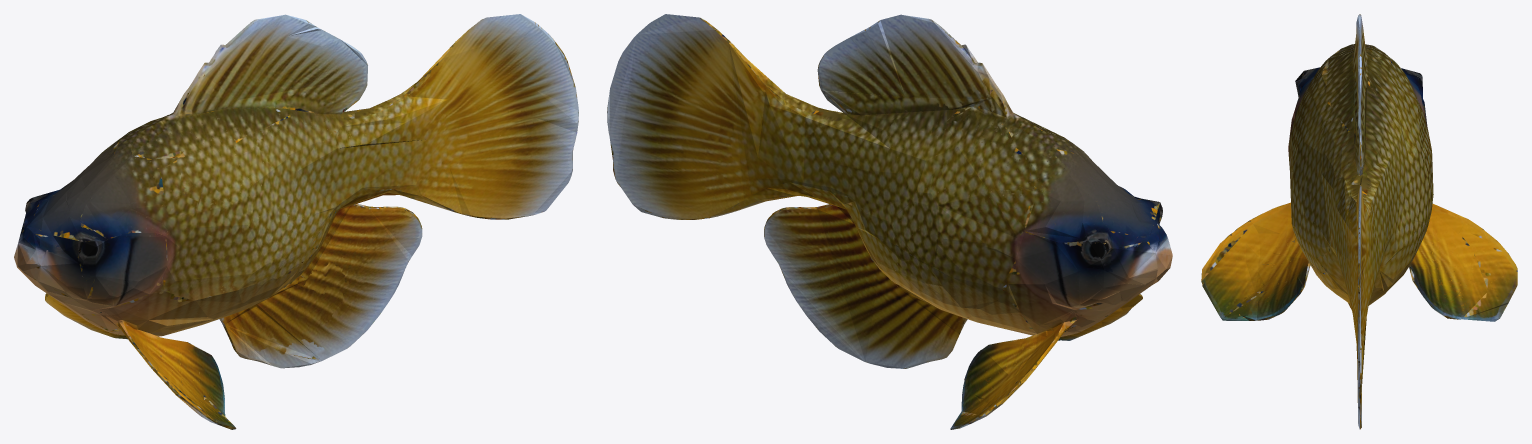
Rendered from fish_0013_smpl23_resized.glb.
The picture shows the model from 3 angles, left to right: view 1: azimuth 30°, elevation 25°; view 2: azimuth 150°, elevation 25°; view 3: azimuth 270°, elevation 25°; orthographic projection. The views are drawn at different scales.
Visible parts, largest first — view 1: world; view 2: world; view 3: world.
Boxes of the visible parts, x1,y1,x2,y2 form: world: (14,14,578,429); world: (607,14,1172,429); world: (1201,14,1517,429).
Bounding box in the file's own units: 1.99 × 1.22 × 0.9478.
1 material, 1 textured.
